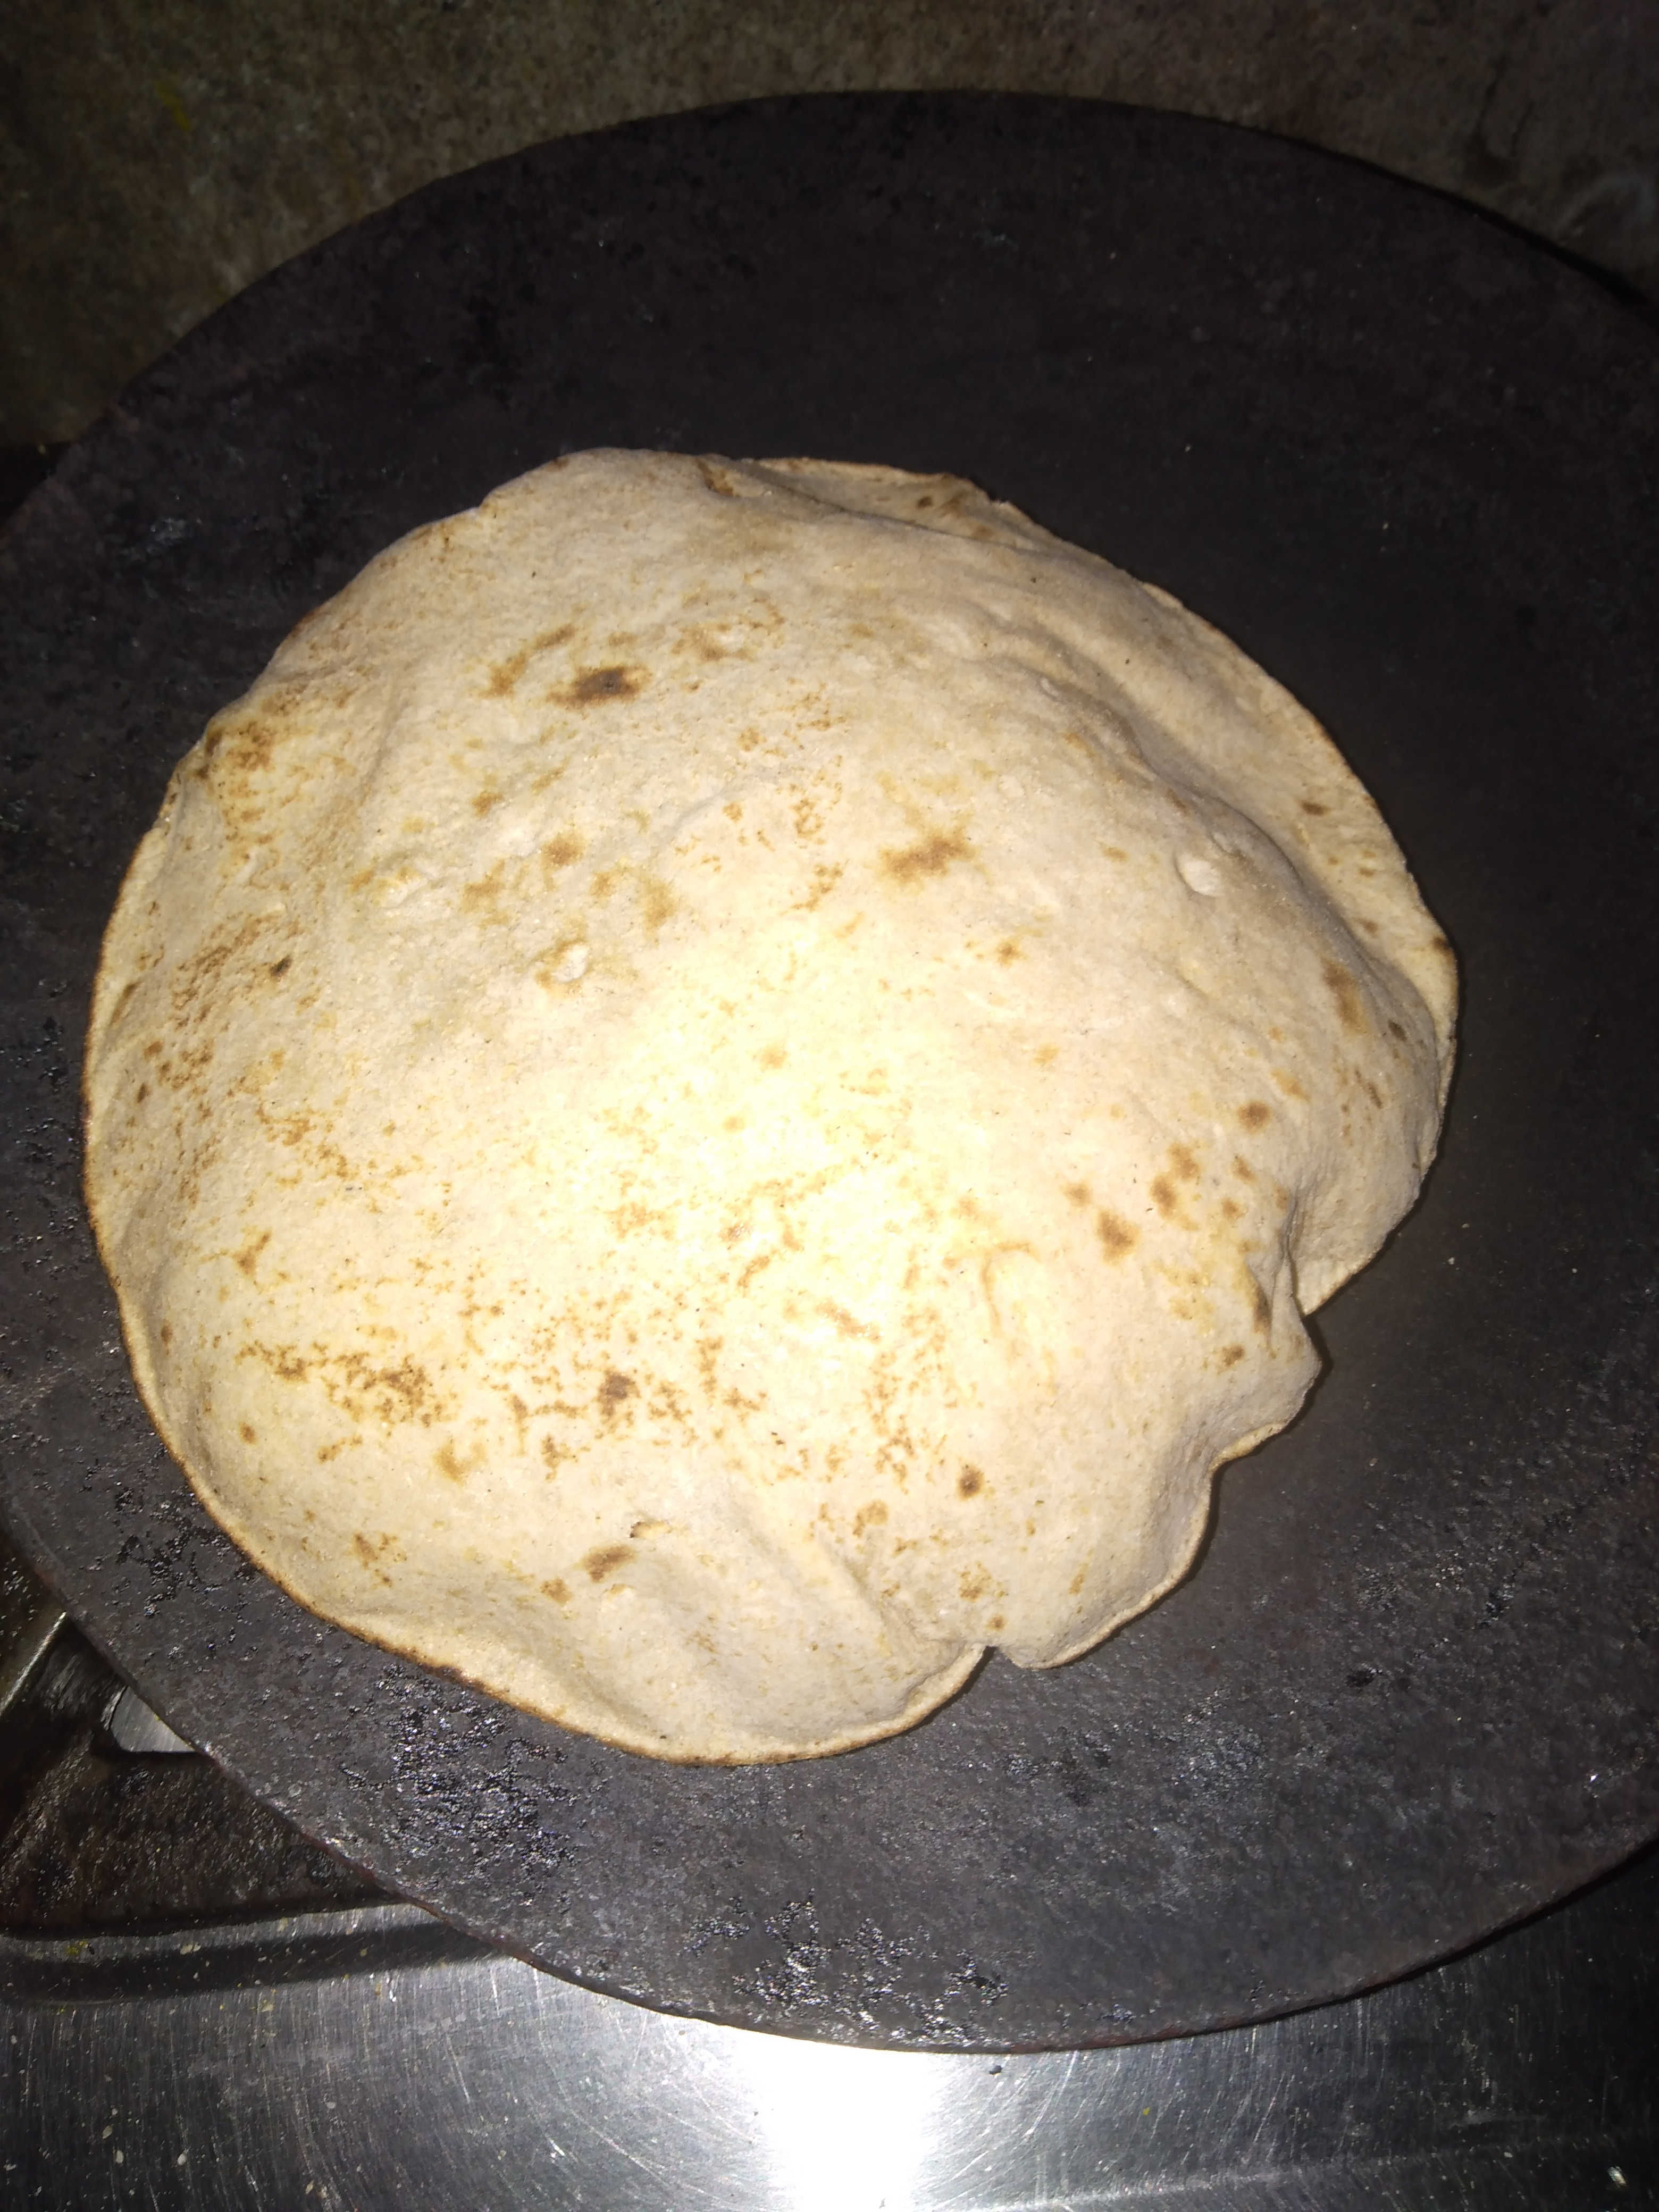food: (63, 423, 1471, 1782)
